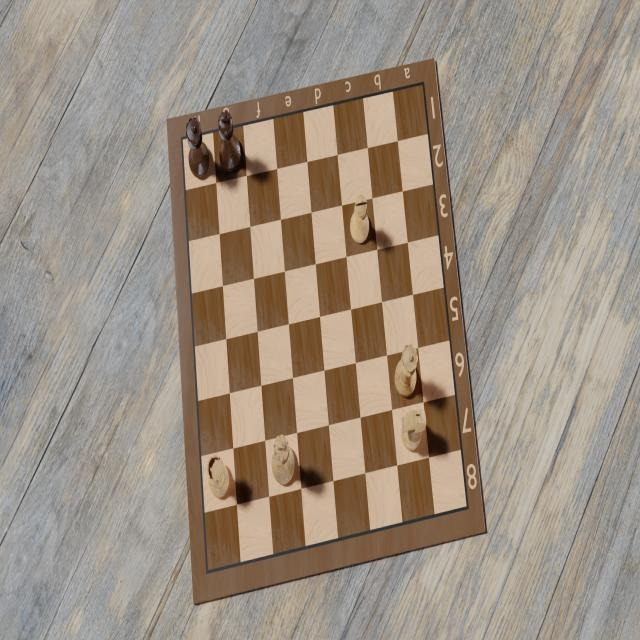black-king: (214, 105, 242, 179)
black-queen: (185, 117, 211, 183)
white-bishop: (348, 191, 373, 247)
white-king: (269, 433, 298, 491)
white-knight: (398, 408, 425, 458)
white-queen: (393, 339, 419, 404)
white-rook: (207, 451, 233, 505)
